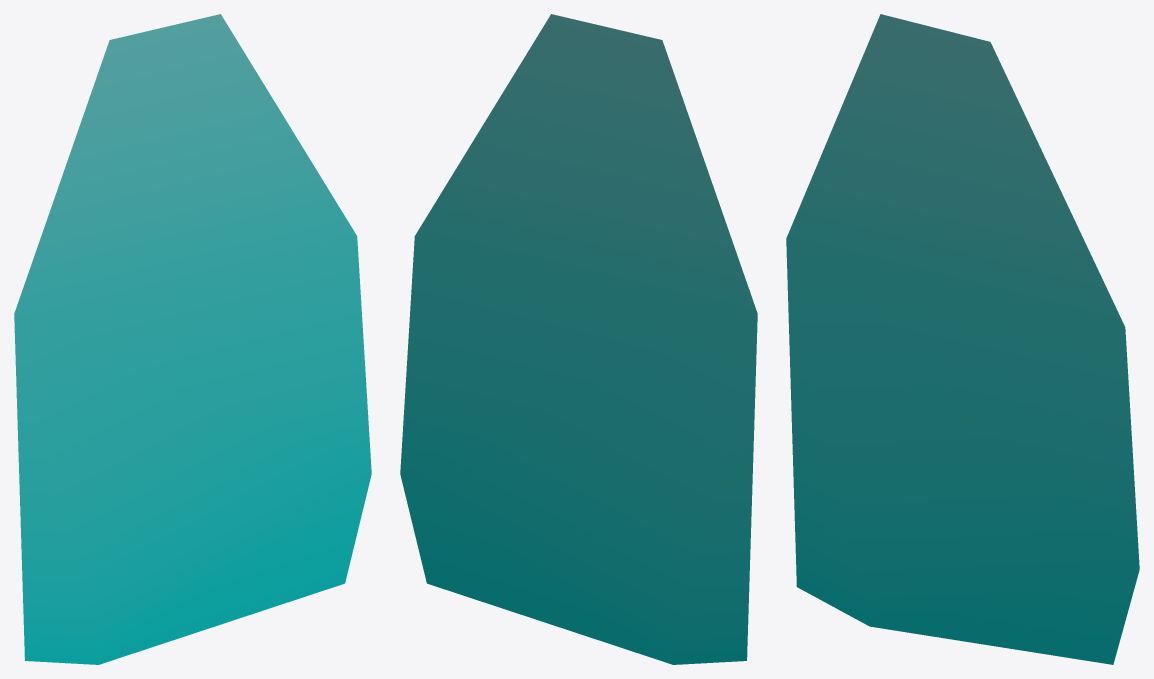
Rendered from Kikuyu_Grass_wiljearqx_High_wiljearqx_VarA_LOD3.fbx.
The picture shows the model from 3 angles, left to right: view 1: azimuth 30°, elevation 25°; view 2: azimuth 150°, elevation 25°; view 3: azimuth 330°, elevation 25°; orthographic projection.
Visible parts, largest first — view 1: _pyvy_VarA_LOD6; view 2: _pyvy_VarA_LOD6; view 3: _pyvy_VarA_LOD6.
Boxes of the visible parts, x1,y1,x2,y2 form: _pyvy_VarA_LOD6: [14, 14, 371, 664]; _pyvy_VarA_LOD6: [400, 14, 757, 664]; _pyvy_VarA_LOD6: [786, 14, 1139, 664].
Bounding box in the file's own units: 32.28 × 53.68 × 0.
